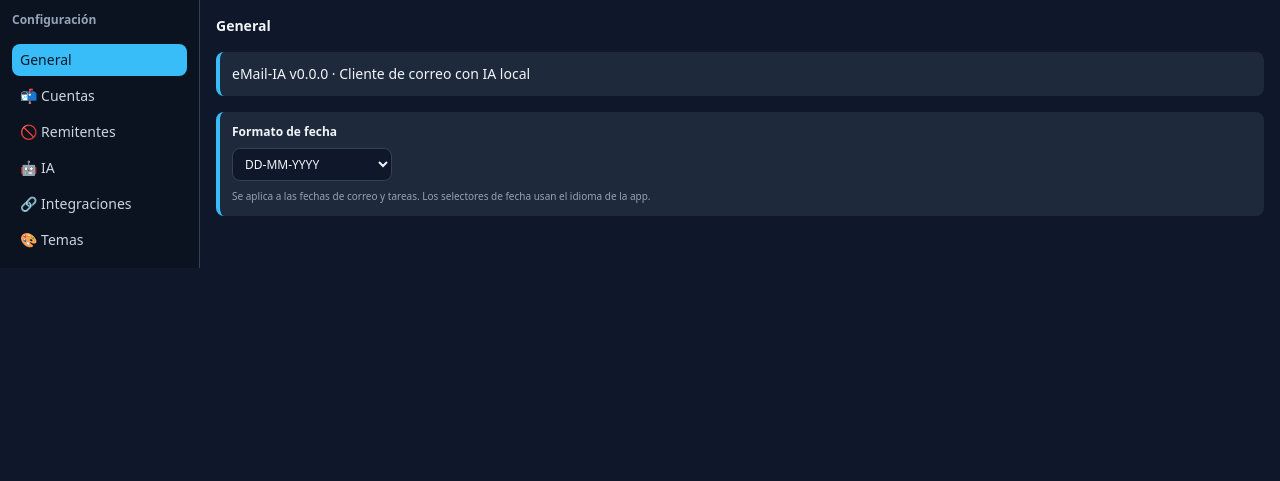
it: ConfigPage — secciones y cuentas › la sección IA carga la config guardada y Conectar prueba el servidor
Step 1. Click the button "🤖 IA" → x=100, y=168, box [12, 152, 187, 184]
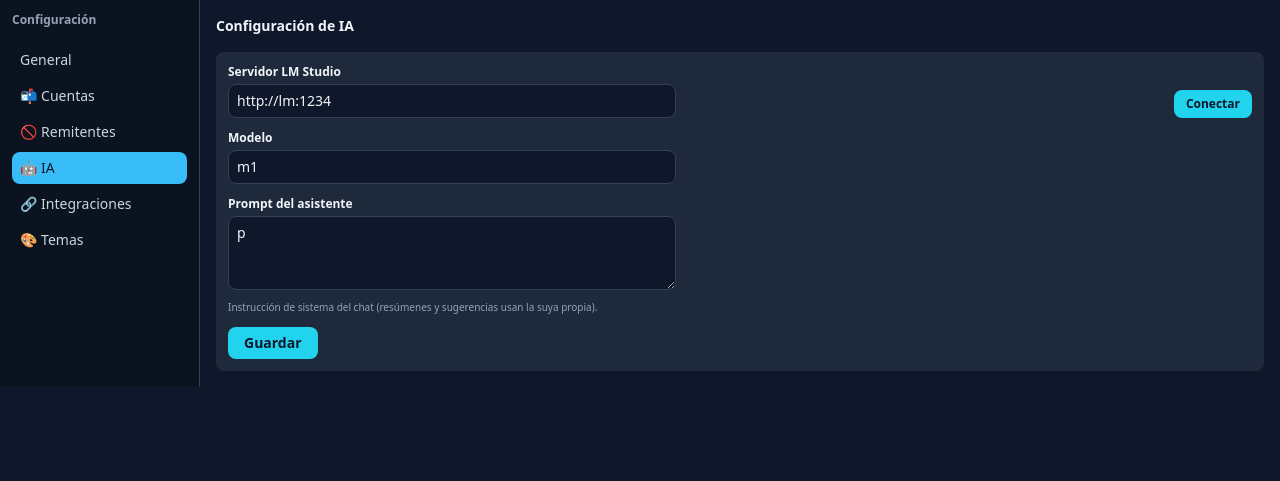
expect the field showing "http://lm:1234" below "Servidor LM Studio" holds "http://lm:1234": met, box [228, 84, 676, 118]
Step 2. Click the button "Conectar" → x=1213, y=104, box [1174, 90, 1252, 118]
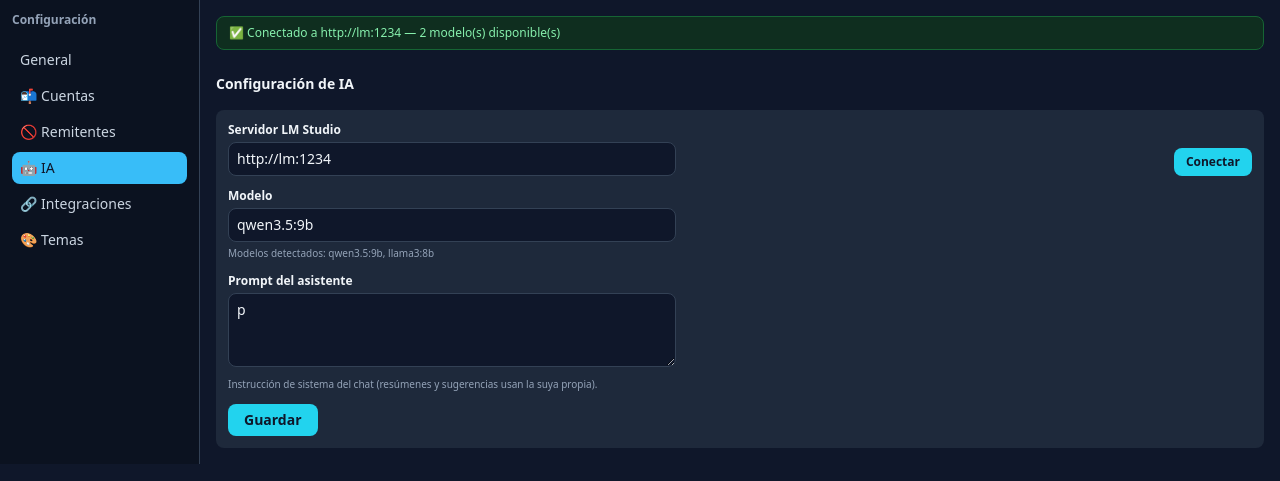
expect the text "✅ Conectado a http://lm:1234 — 2 modelo(s) disponible(s)" is shown: met, box [216, 16, 1264, 50]
